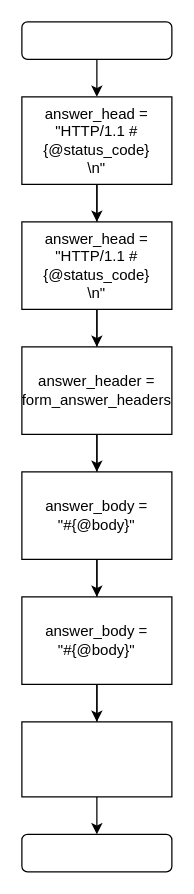
This 194x894 diagram has some shape labels left out. Here are the shapes that lost their labels. From the top down, the centre of each, then its label:
At pixel 96 40: "начало".
At pixel 96 759: "answer_head + answer_header + answer_body".
At pixel 96 852: "конец".
